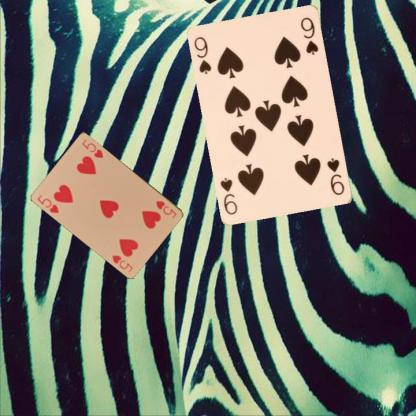5h: (35, 192, 61, 214), (154, 198, 178, 220)
9s: (325, 155, 346, 197), (192, 34, 213, 76)
